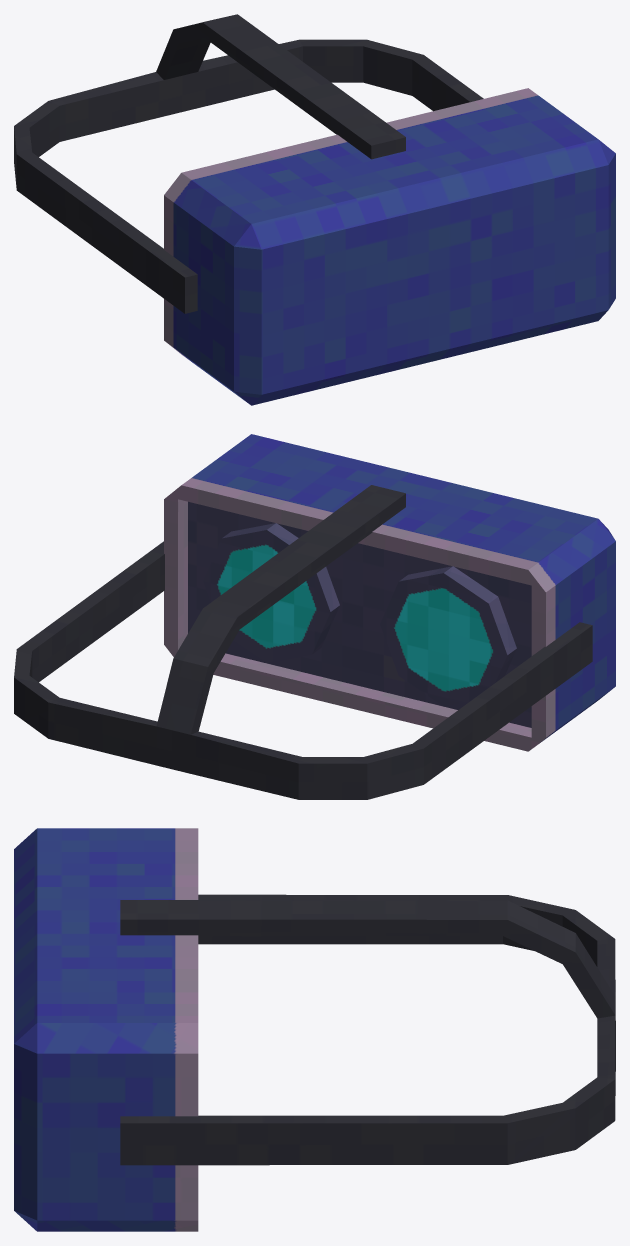
Rendered from VR_Headset.fbx.
The picture shows the model from 3 angles, top to bottom: view 1: azimuth 30°, elevation 25°; view 2: azimuth 150°, elevation 25°; view 3: azimuth 270°, elevation 25°; orthographic projection. The views are drawn at different scales.
Parts seen in each view (by area): view 1: Headset; view 2: Headset; view 3: Headset.
Part boxes in pixels (x1,y1,x2,y2): Headset: (14, 14, 615, 405); Headset: (14, 434, 615, 799); Headset: (14, 828, 615, 1231).
Bounding box in the file's own units: 18.82 × 8.62 × 20.93.
5 materials, 5 textured.
